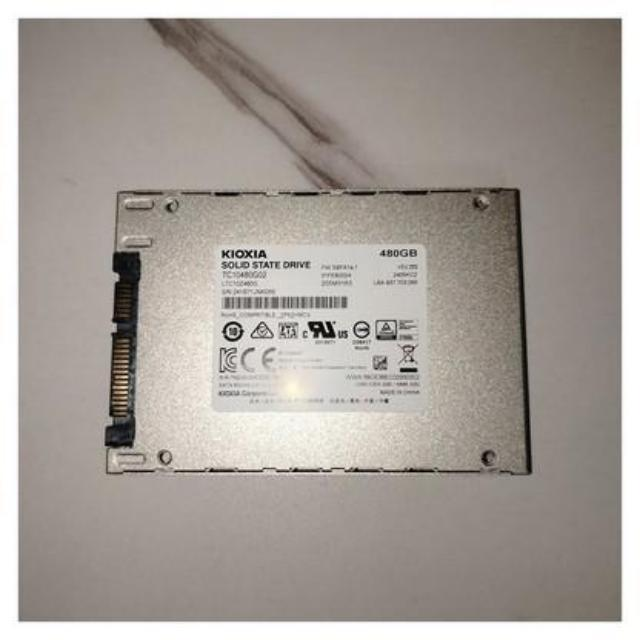DISK: (102, 185, 534, 478)
